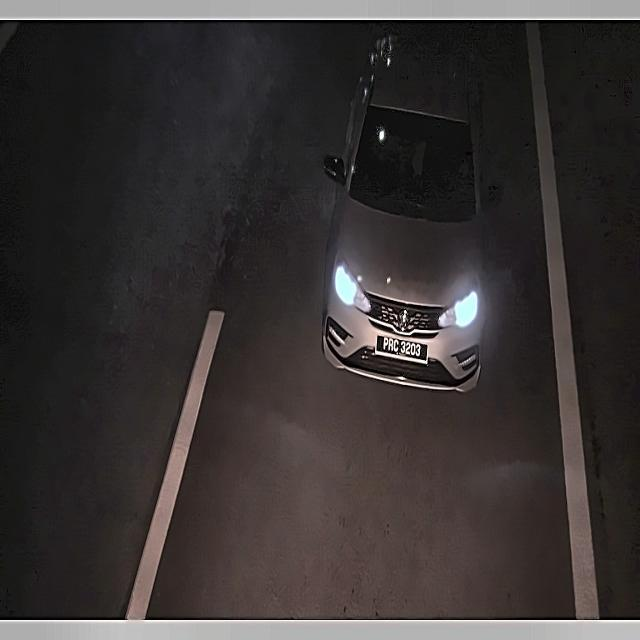car: (373, 326, 428, 363)
